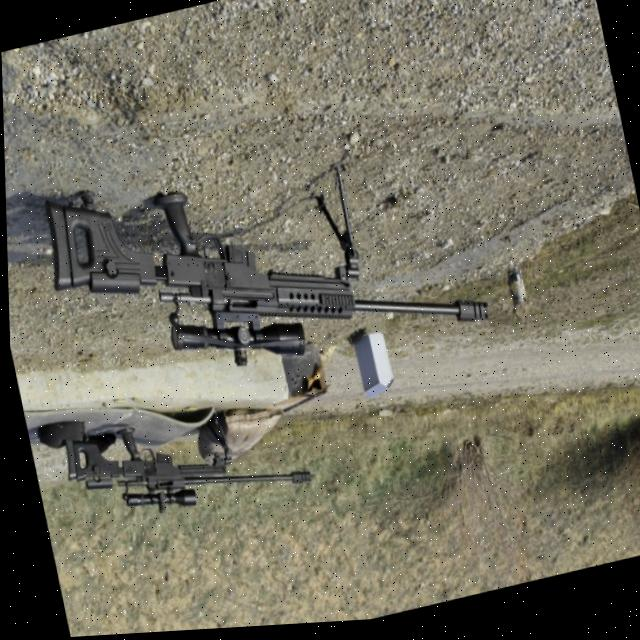firearm: (35, 115, 490, 421), (56, 386, 310, 539)
